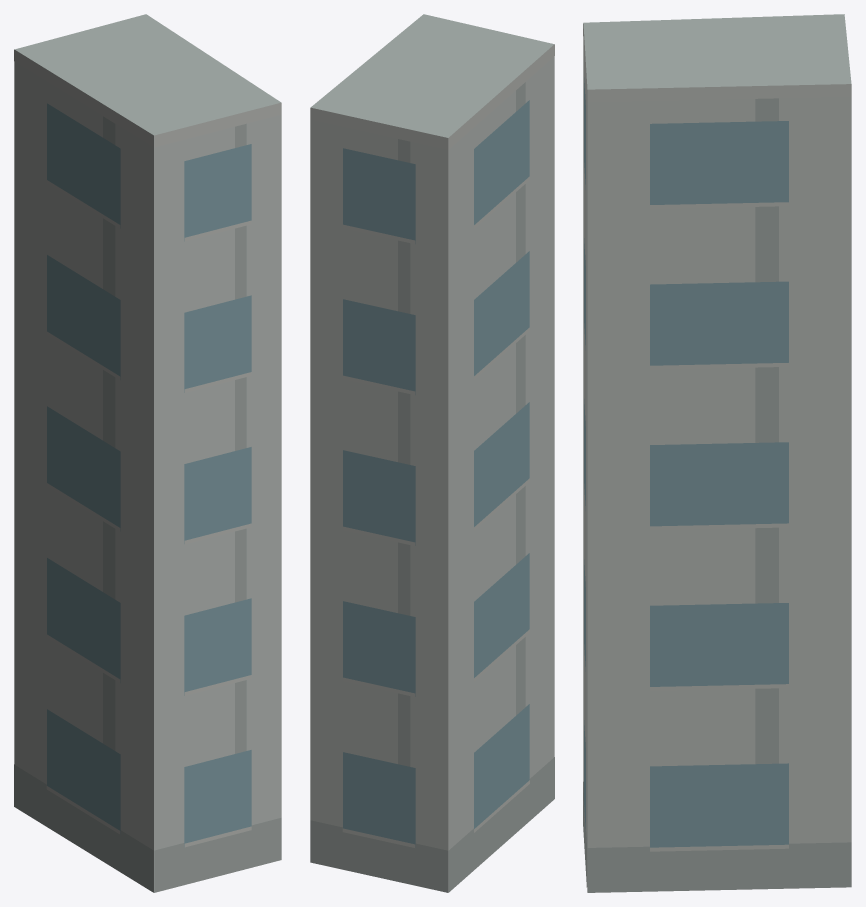
File: survey-upis-32632488.glb
The picture shows the model from 3 angles, left to right: view 1: azimuth 30°, elevation 25°; view 2: azimuth 150°, elevation 25°; view 3: azimuth 270°, elevation 25°; orthographic projection. The views are drawn at different scales.
Visible parts, largest first — view 1: survey-upis-32632488.tmp; view 2: survey-upis-32632488.tmp; view 3: survey-upis-32632488.tmp.
Part boxes in pixels (x1,y1,x2,y2): survey-upis-32632488.tmp: [14, 14, 281, 892]; survey-upis-32632488.tmp: [310, 14, 554, 892]; survey-upis-32632488.tmp: [583, 14, 851, 892].
Size of the model in its own units: 3.09 by 15.25 by 4.62.
